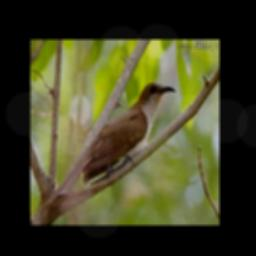Cuckoo: (82, 81, 178, 186)
